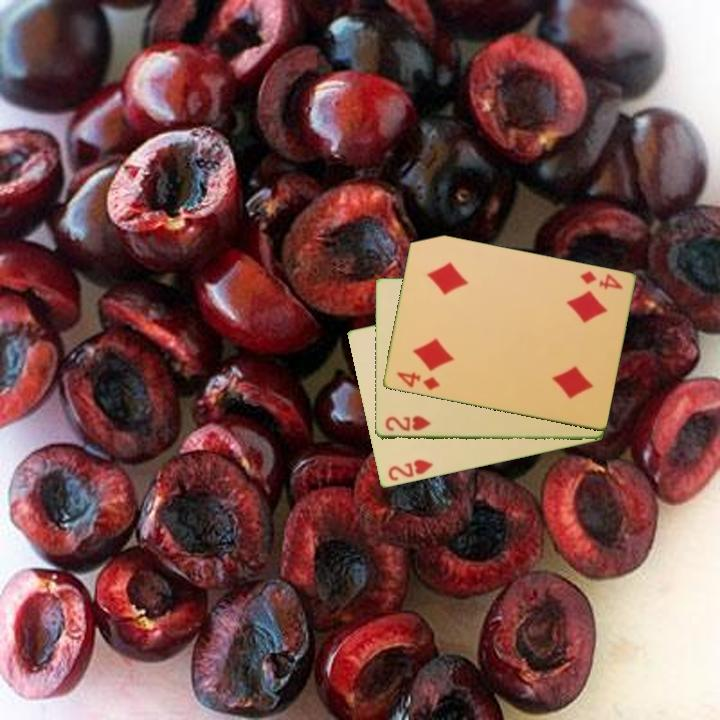2h: (384, 456, 436, 484), (382, 413, 434, 434)
4d: (576, 267, 625, 293), (392, 368, 442, 393)
